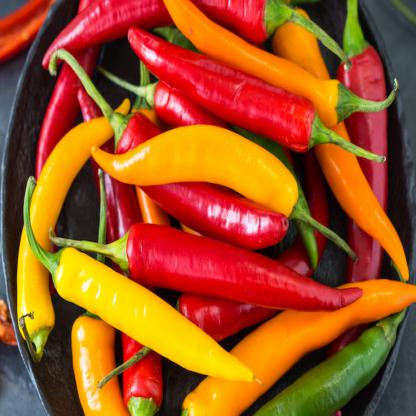chilli: (26, 175, 256, 382), (271, 0, 411, 283), (88, 124, 355, 267), (127, 24, 383, 164), (181, 279, 416, 415), (47, 217, 362, 315), (164, 0, 397, 129), (14, 101, 129, 360), (253, 310, 405, 416), (334, 0, 389, 291)
